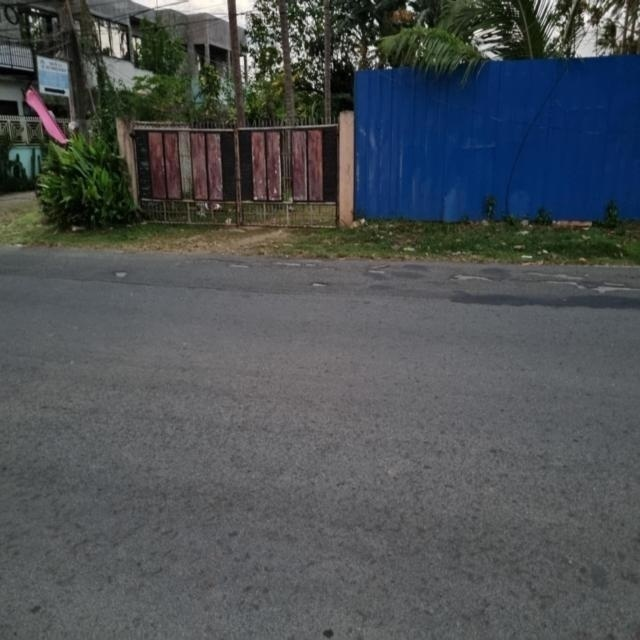pothole: (310, 273, 338, 303), (110, 266, 136, 291)
